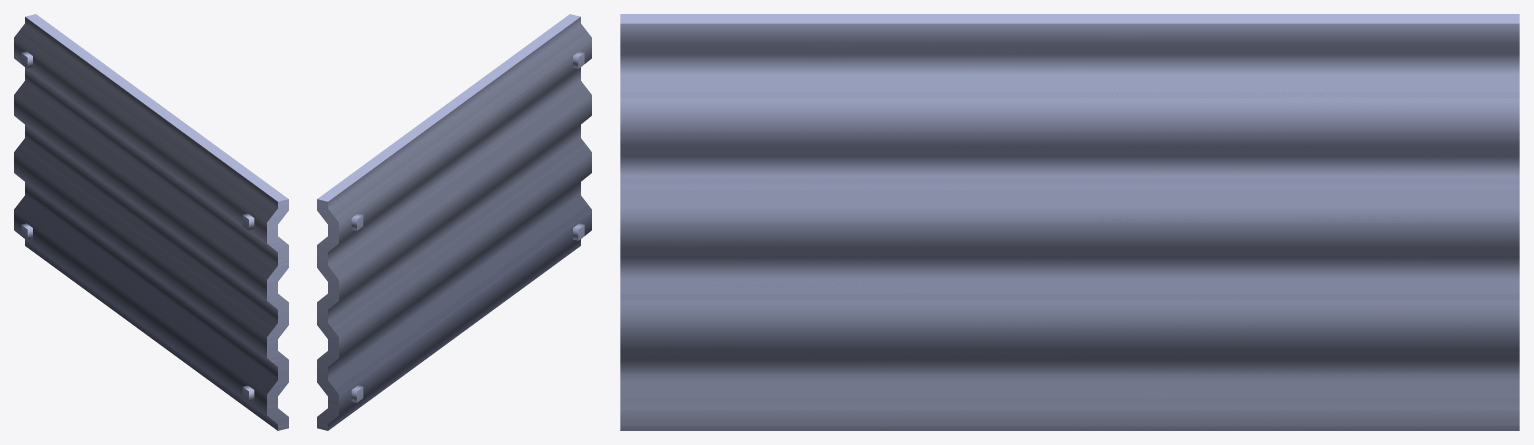
The model's file is plating-detailed-wide.glb.
3 renders of one model, left to right at view 1: azimuth 30°, elevation 25°; view 2: azimuth 150°, elevation 25°; view 3: azimuth 270°, elevation 25°, orthographic. The views are drawn at different scales.
Visible parts, largest first — view 1: plating-detailed-wide; view 2: plating-detailed-wide; view 3: plating-detailed-wide.
Part boxes in pixels (x1=…): plating-detailed-wide: x1=14, y1=14, x2=288, y2=430; plating-detailed-wide: x1=317, y1=14, x2=591, y2=430; plating-detailed-wide: x1=620, y1=14, x2=1519, y2=430.
Bounding box in the file's own units: 0.125 × 1 × 2.
1 material, 1 textured.
